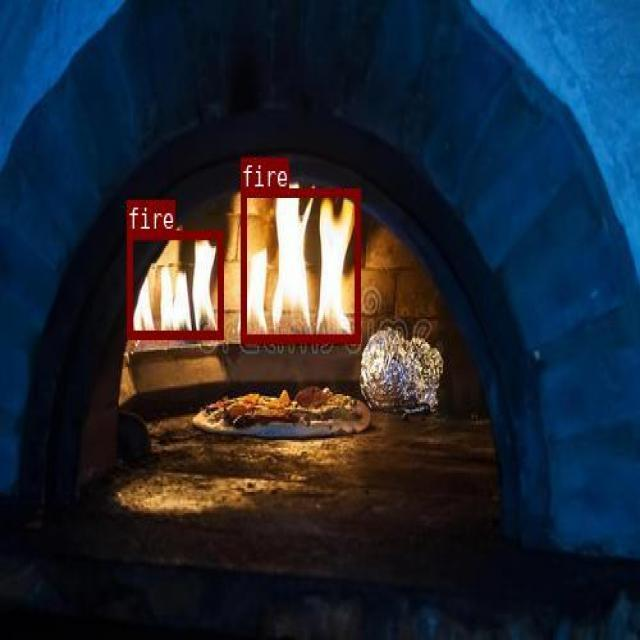fire: (240, 187, 359, 341), (126, 230, 222, 338)
